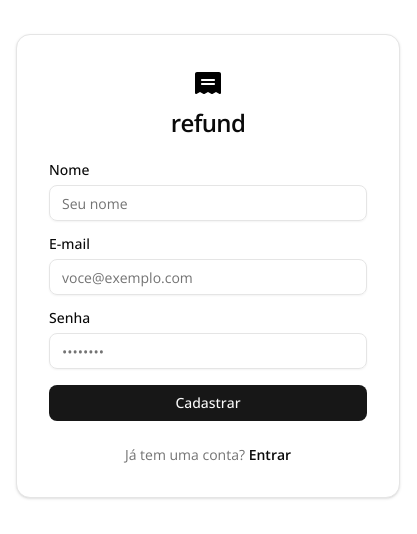
Scenario: PageRegister › shows an error message and stays on the page when register fails
This screenshot has width=417, height=534.
Step 1. Type "Ana Souza" into the field labelled "Nome" → {"x": 208, "y": 203}, box x1=49 y1=185 x2=367 y2=221
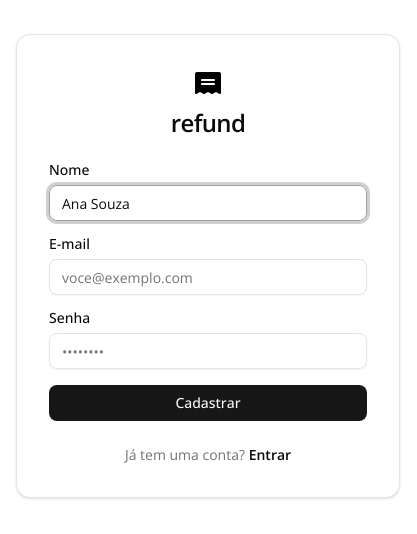
Step 2. Type "ana@exemplo.com" into the field labelled "E-mail" → {"x": 208, "y": 277}, box x1=49 y1=259 x2=367 y2=295
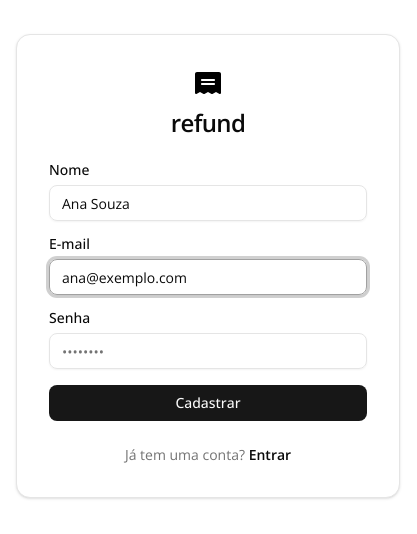
Step 3. Type "secret123" into the password field labelled "Senha" → {"x": 208, "y": 351}, box x1=49 y1=333 x2=367 y2=369
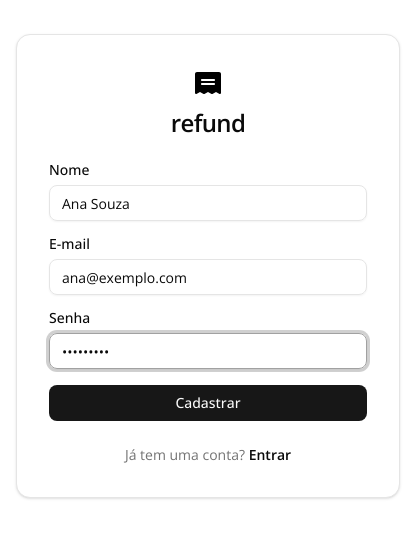
Step 4. Click the button "Cadastrar" → {"x": 208, "y": 403}, box x1=49 y1=385 x2=367 y2=421
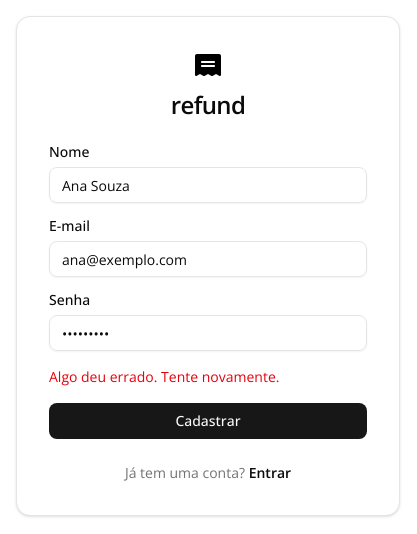
expect the text "Algo deu errado. Tente novamente." is shown: met, box x1=49 y1=367 x2=280 y2=386
